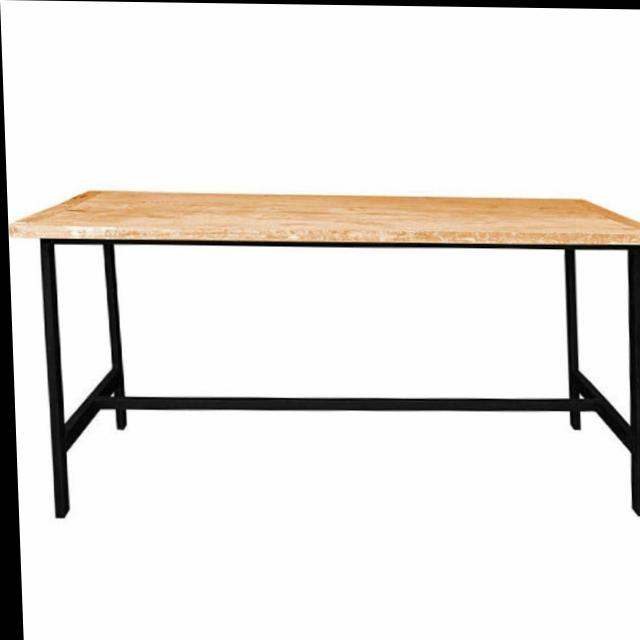Table: (5, 155, 640, 542)
